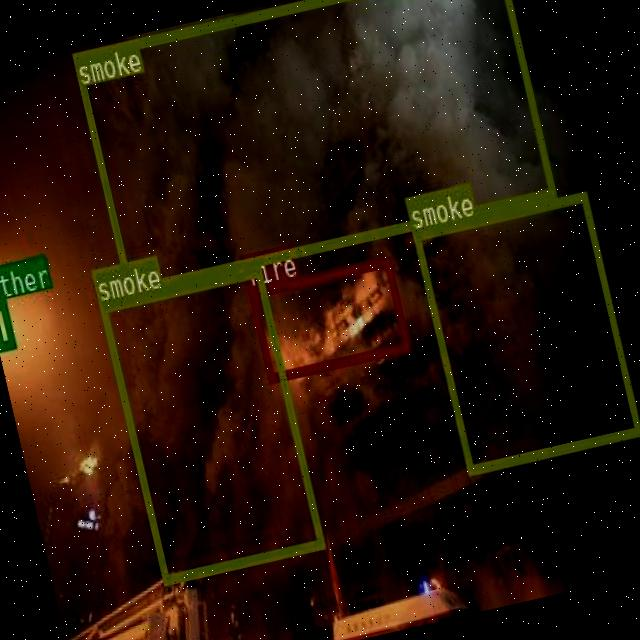fire: (246, 255, 409, 381)
smoke: (70, 0, 555, 295), (98, 265, 324, 583), (410, 189, 640, 473)
